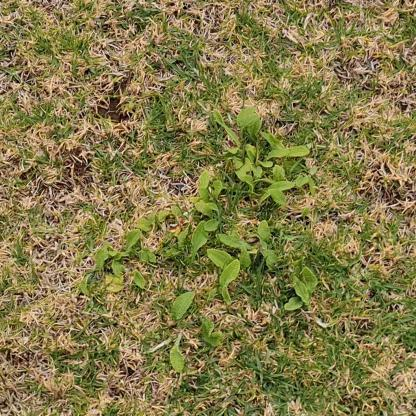Weeds: (82, 106, 319, 373)
